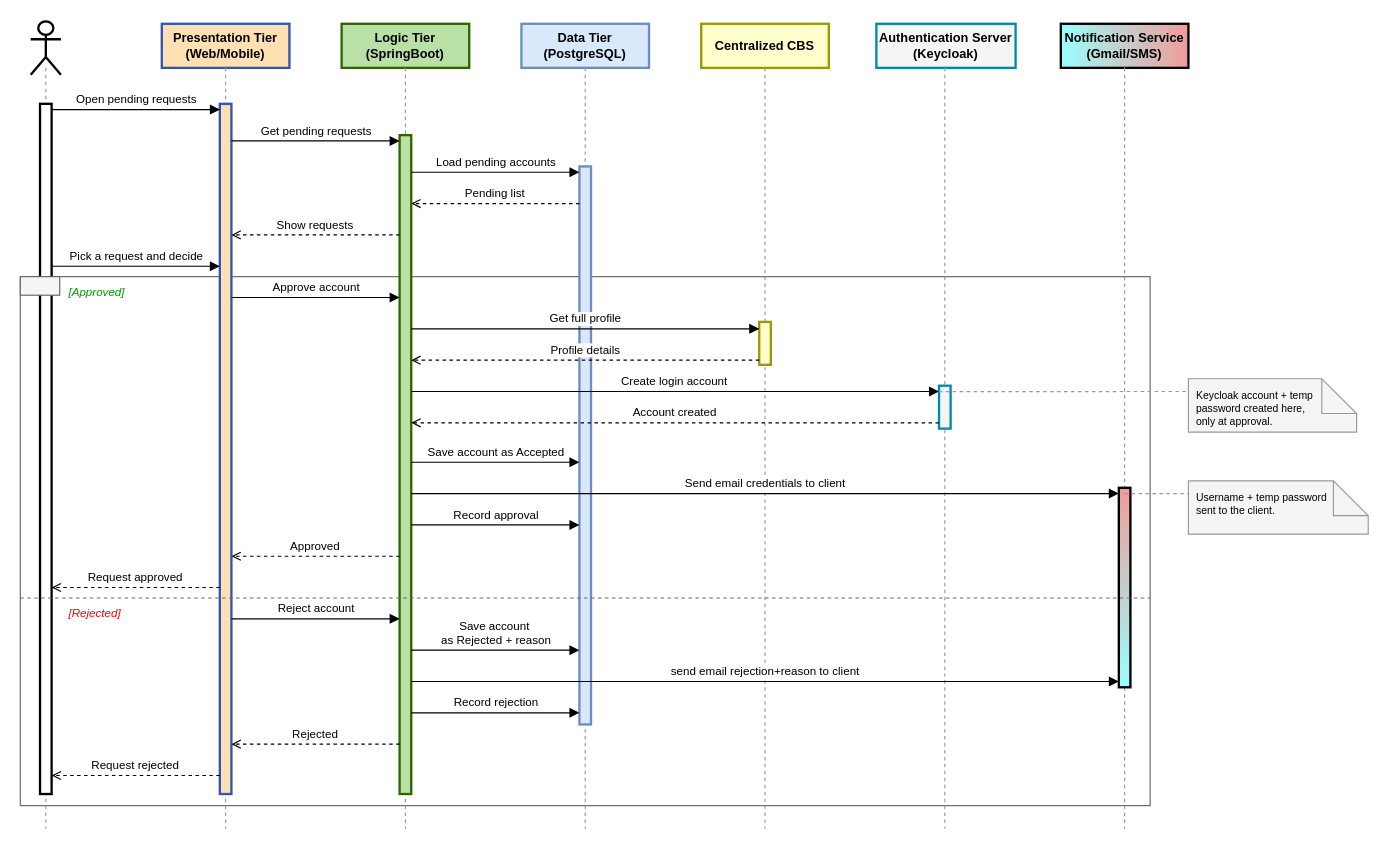
Some shapes in this 1389 by 850 pixel diagram are drawn without their labels. The shapes that lost their labels are listed below. From the top down, each one's centre as x and y in pixels, then its label:
At (45,47): "Admin".
At (39,285): "alt".
